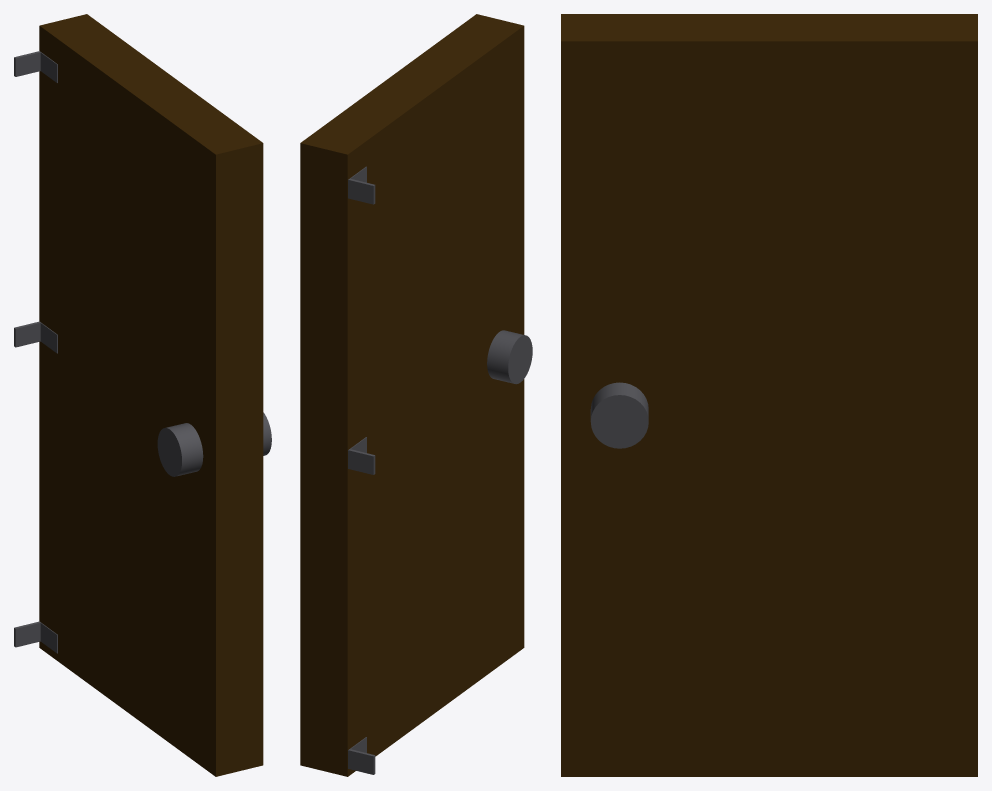
Rendered from door.fbx.
The picture shows the model from 3 angles, left to right: view 1: azimuth 30°, elevation 25°; view 2: azimuth 150°, elevation 25°; view 3: azimuth 270°, elevation 25°; orthographic projection. The views are drawn at different scales.
Visible parts, largest first — view 1: Cube, Cylinder, Cube.002, Cube.004, Cube.006; view 2: Cube, Cylinder, Cube.004, Cube.002, Cube.006; view 3: Cube, Cylinder.
Boxes of the visible parts, box(x1,y1,x2,y2) form: Cube: box(39, 14, 263, 776); Cylinder: box(157, 412, 271, 476); Cube.002: box(14, 321, 40, 347); Cube.004: box(14, 51, 40, 76); Cube.006: box(14, 621, 40, 647); Cube: box(300, 14, 524, 776); Cylinder: box(487, 330, 532, 384); Cube.004: box(348, 178, 375, 204); Cube.002: box(348, 449, 375, 474); Cube.006: box(348, 749, 375, 774); Cube: box(561, 14, 977, 776); Cylinder: box(590, 382, 648, 448).
Size of the model in its own units: 155 by 976 by 502.
